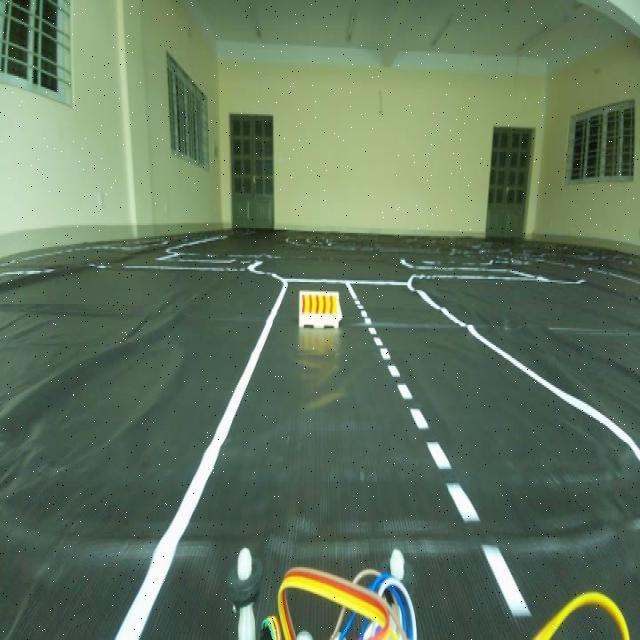roadblock: (294, 284, 345, 342)
